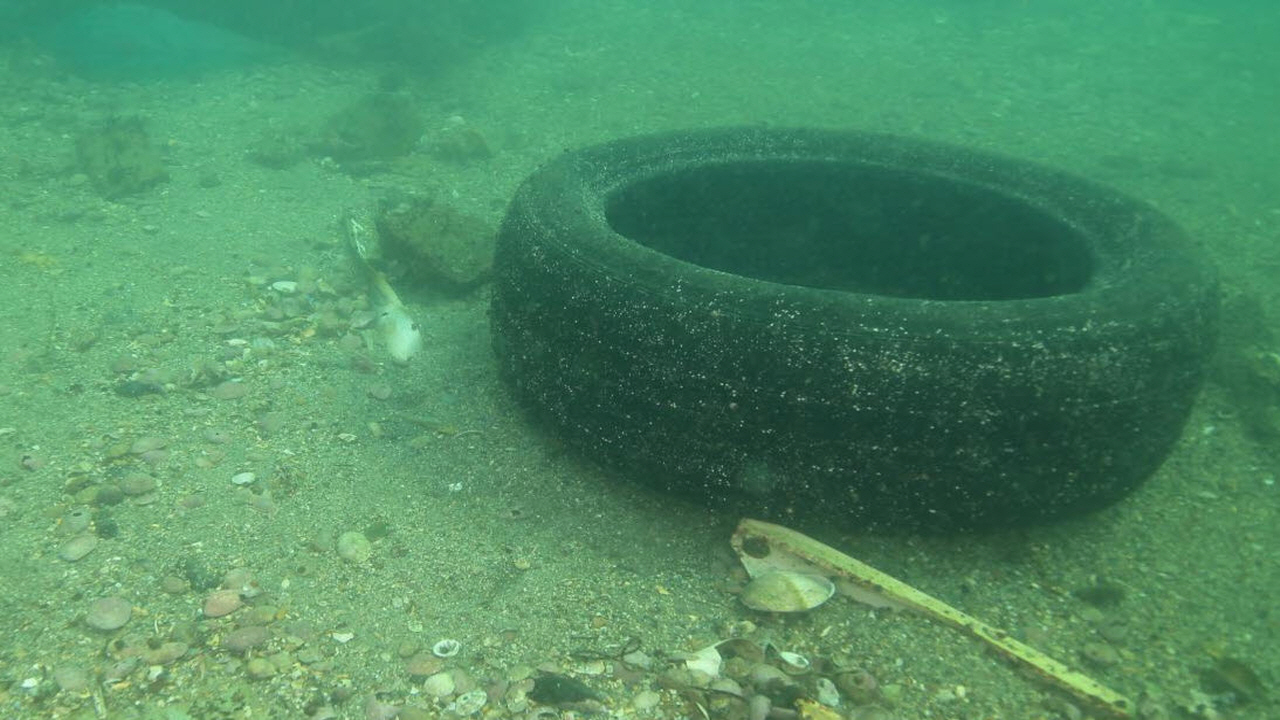tire: (489, 123, 1219, 535)
